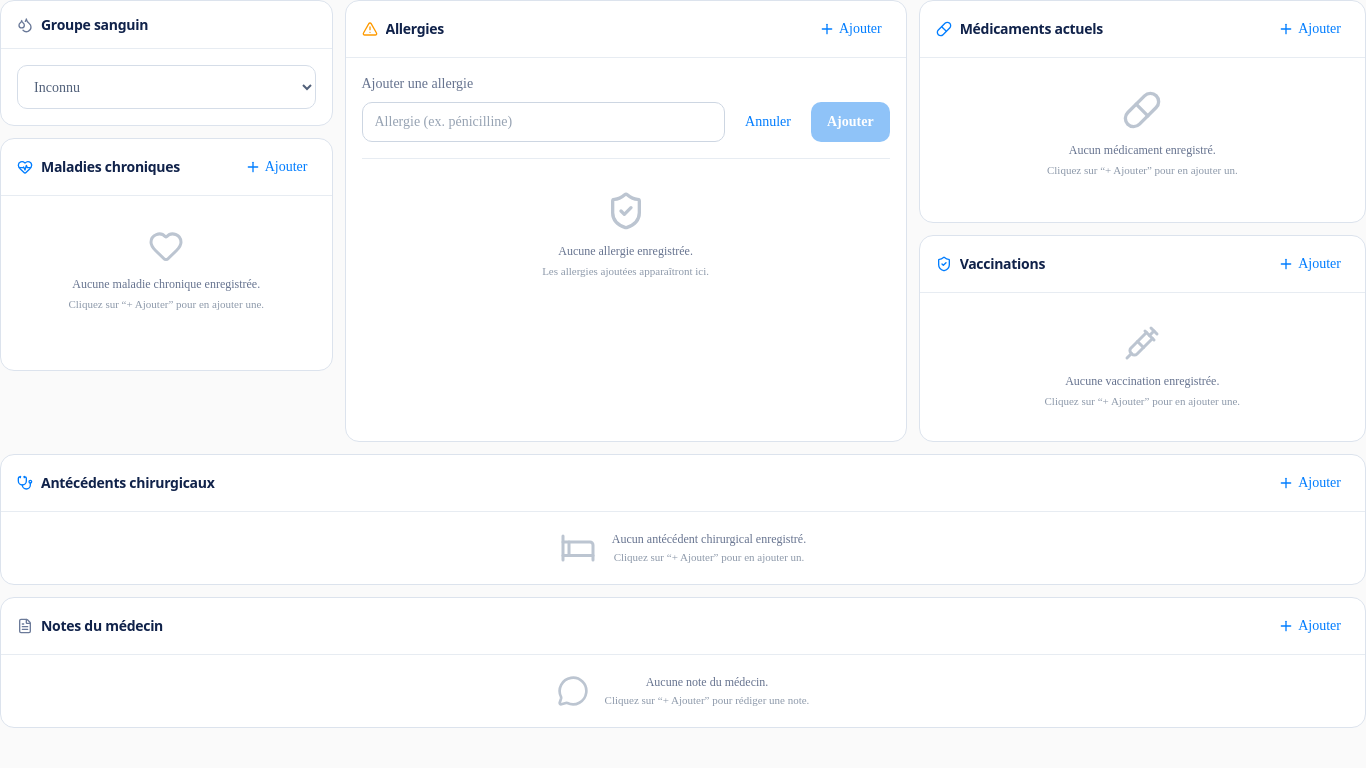
Test: InfosTab › adds an allergy and closes the contextual editor
Expected: the element "Allergies" is shown, [344,0,907,442]
Type "Pénicilline" into the field labelled "Ajouter une allergie" at [543, 122], box [362,102,725,142]
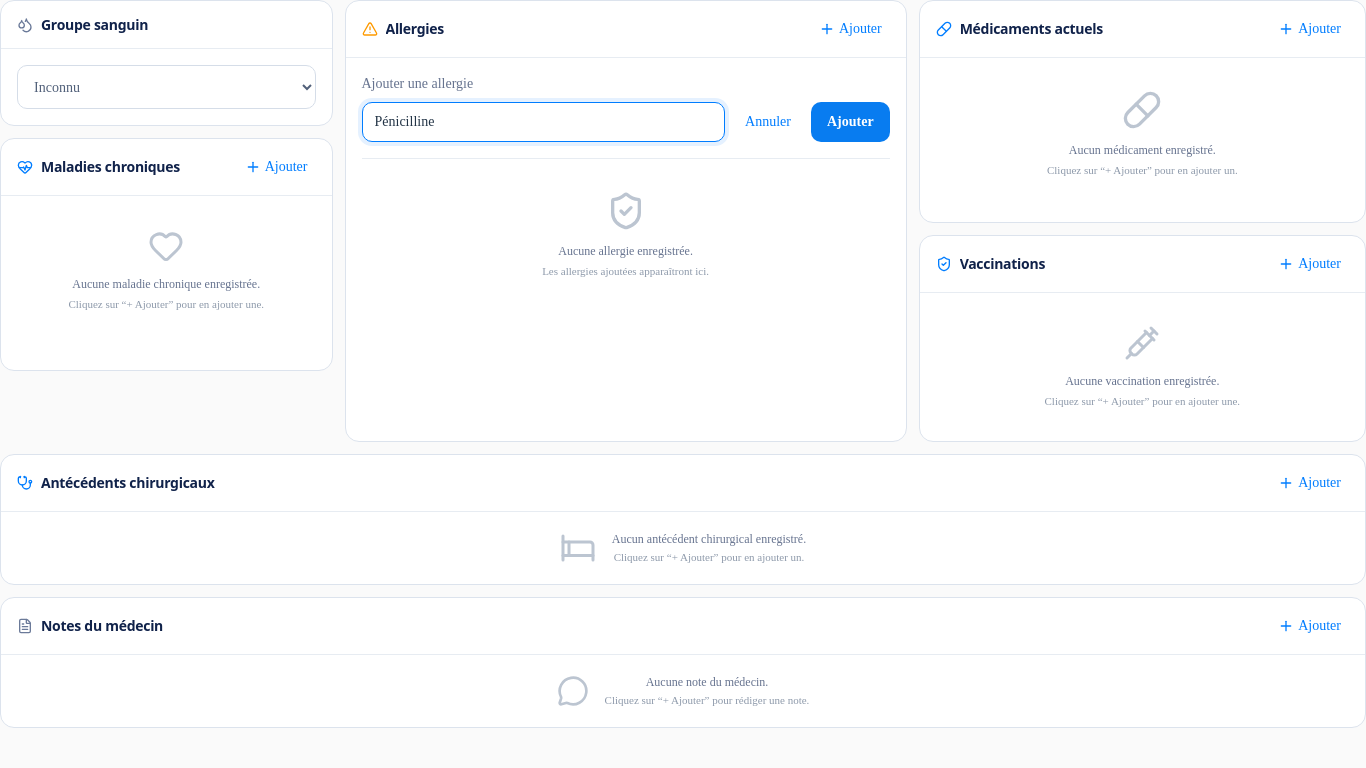
Click the 3rd button "Ajouter" at [850, 122], box [811,102,890,142]
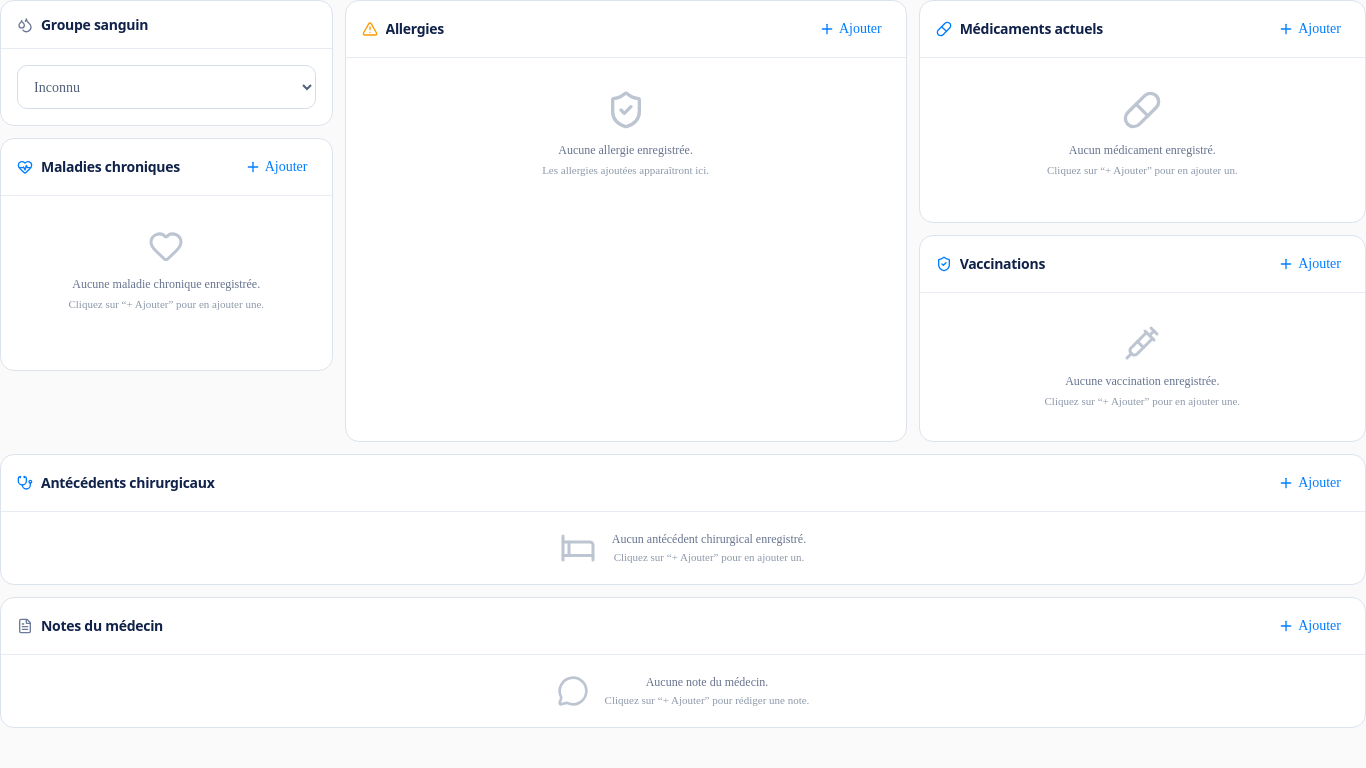
Result: the label labelled "Ajouter une allergie" is gone
